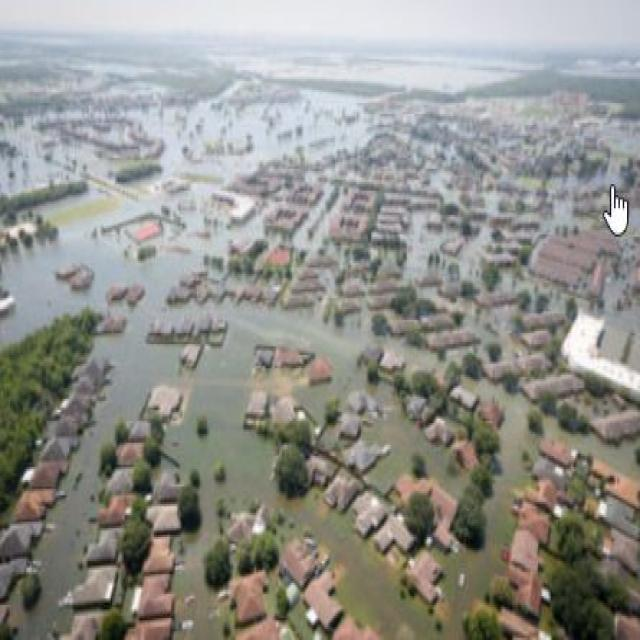flooded_areas: (12, 110, 624, 638)
